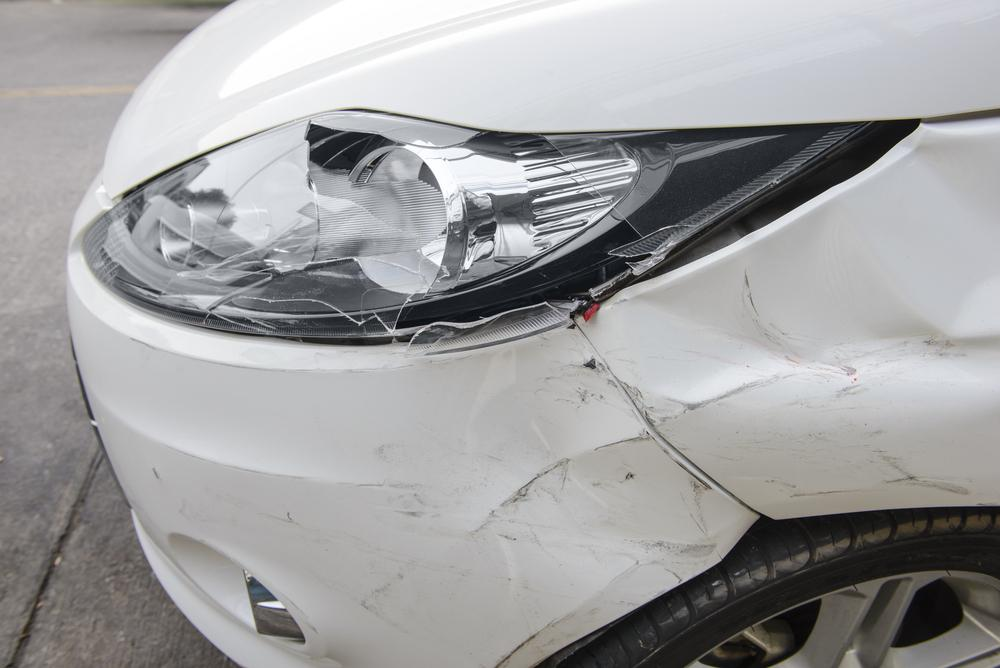dent: (582, 123, 998, 417), (413, 317, 754, 586)
lamp broken: (84, 108, 916, 342)
scratch: (715, 417, 980, 506)
